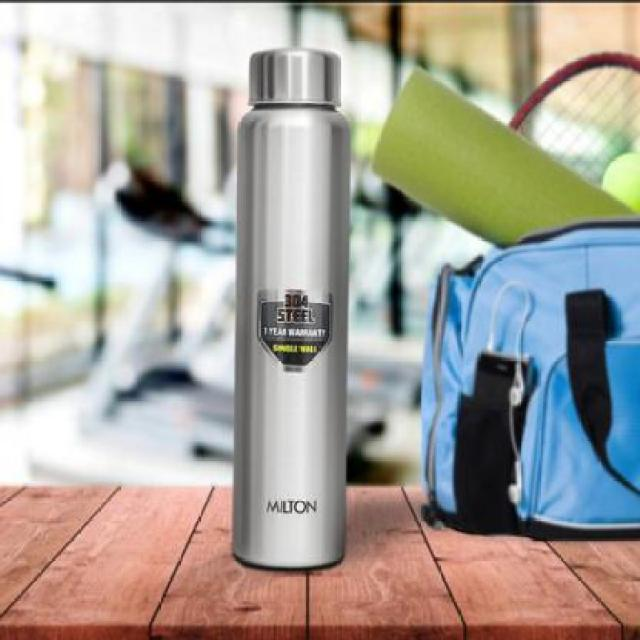Drinking: (225, 36, 352, 599)
